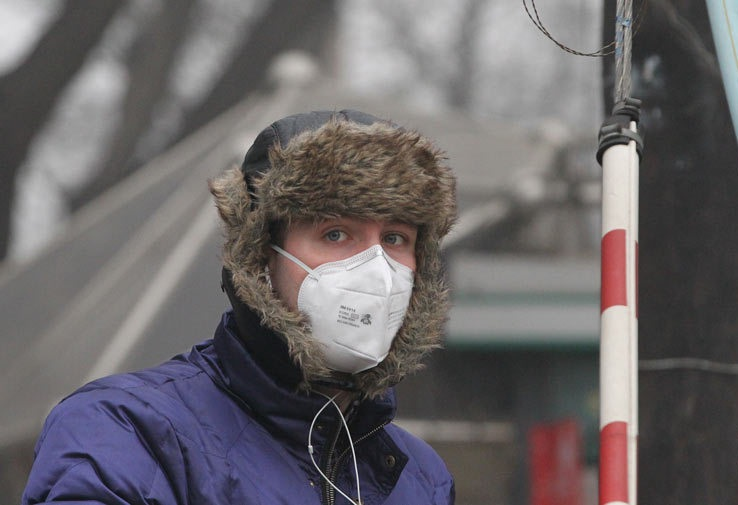face_mask: (279, 185, 422, 369)
